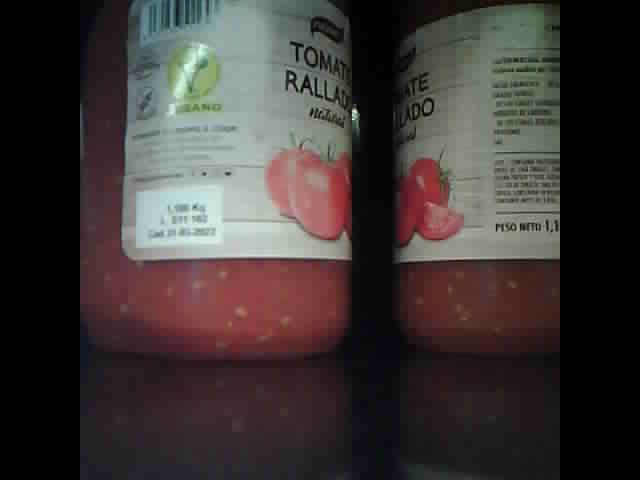tomate: (83, 4, 354, 359), (392, 5, 558, 351)
